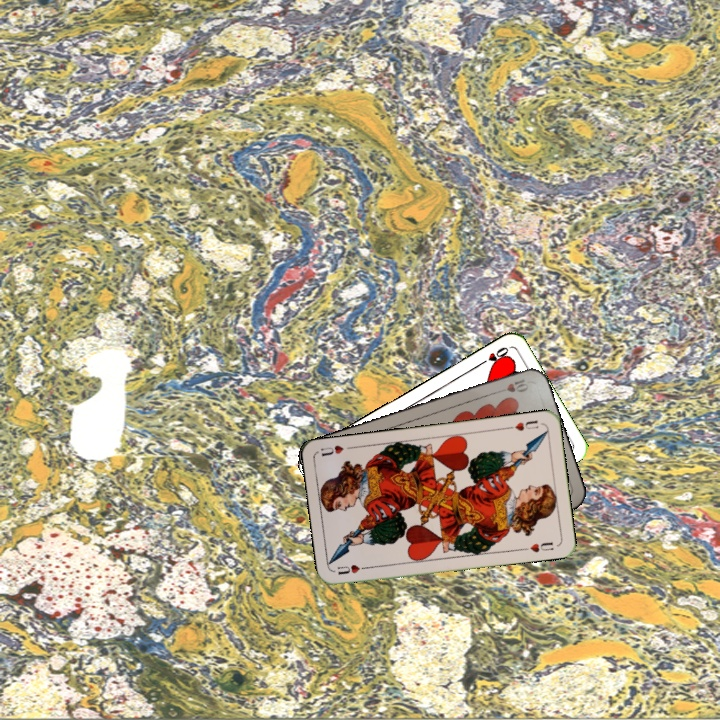H10: (492, 375, 531, 396)
HO: (474, 343, 511, 369)
HU: (504, 416, 541, 433), (333, 561, 372, 577)
